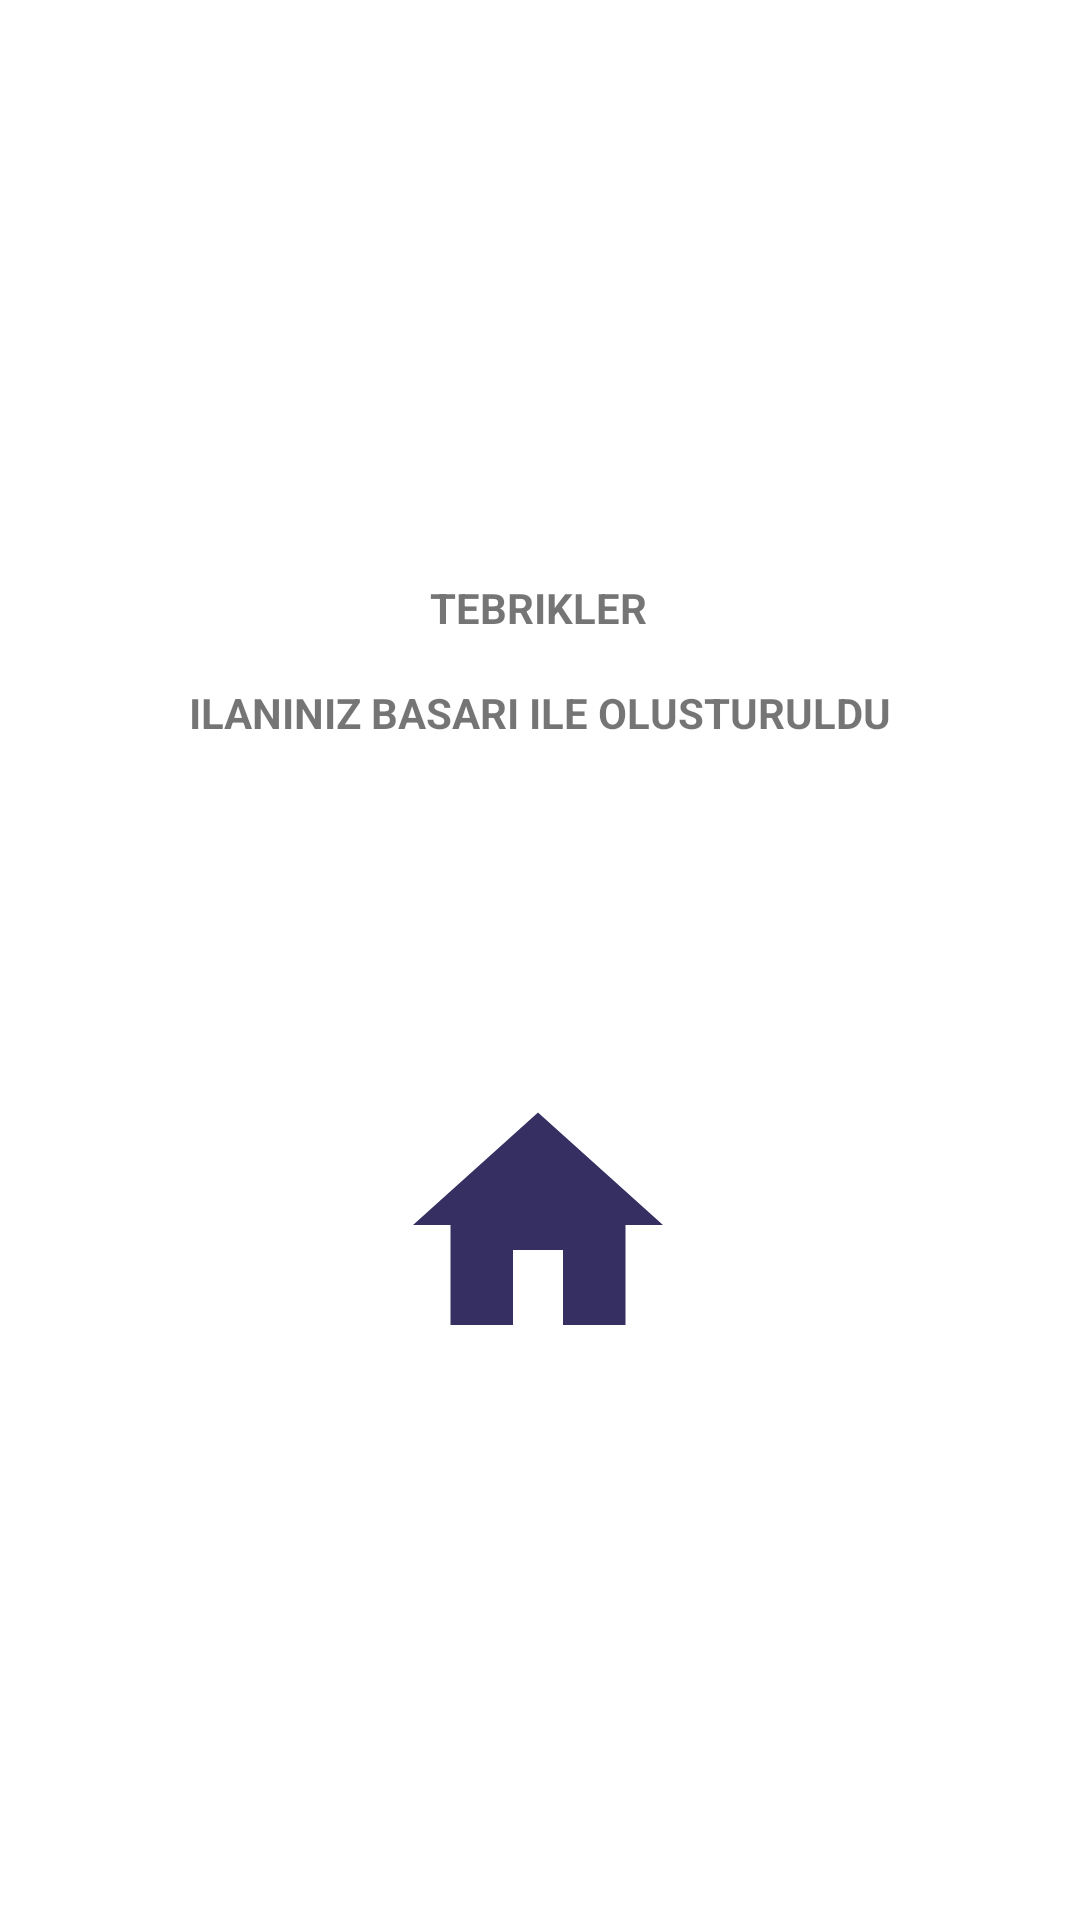

Icons on this 1080×1920 Android screen, each with the point to tap as (x=x, y=y):
home: (x=538, y=1218)
